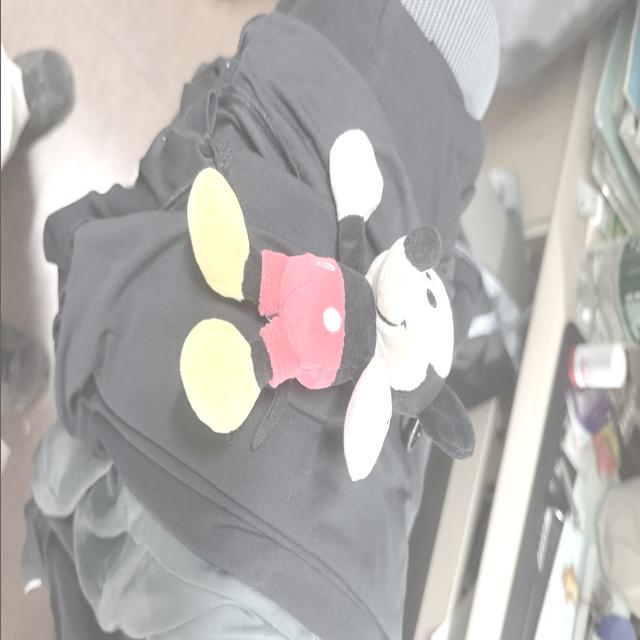mickey: (180, 131, 473, 480)
